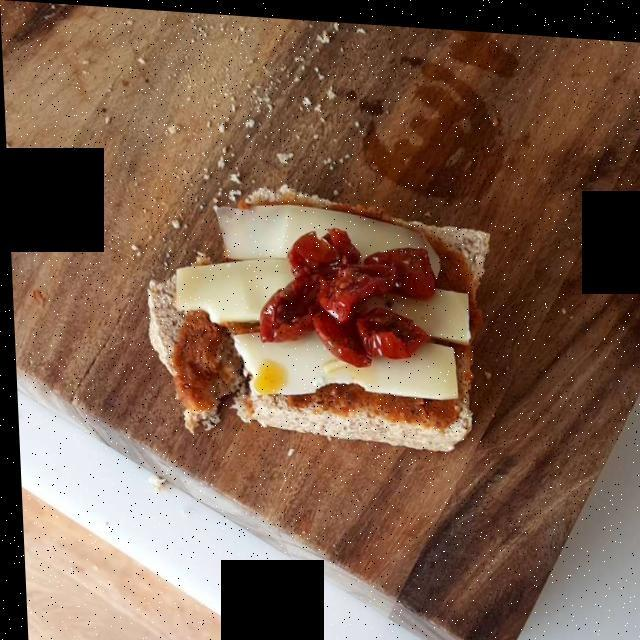bread: (153, 186, 481, 447)
gruyere: (168, 195, 474, 406)
tomato: (267, 218, 433, 377)
